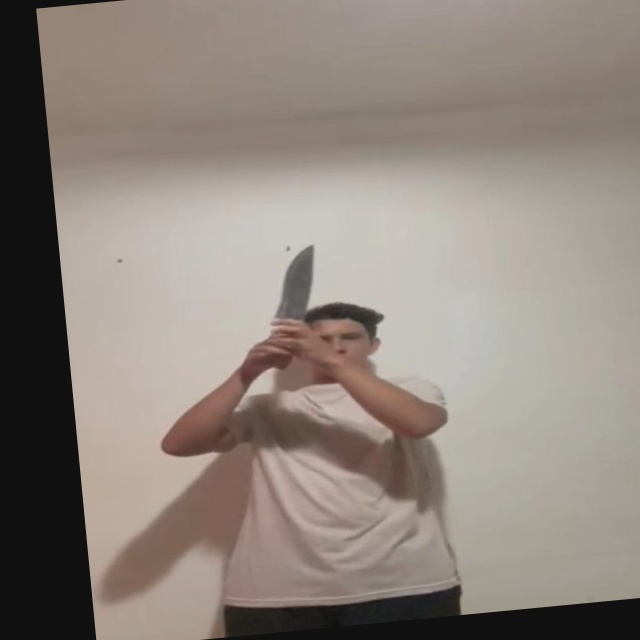Sharp-Object: (273, 241, 326, 319)
